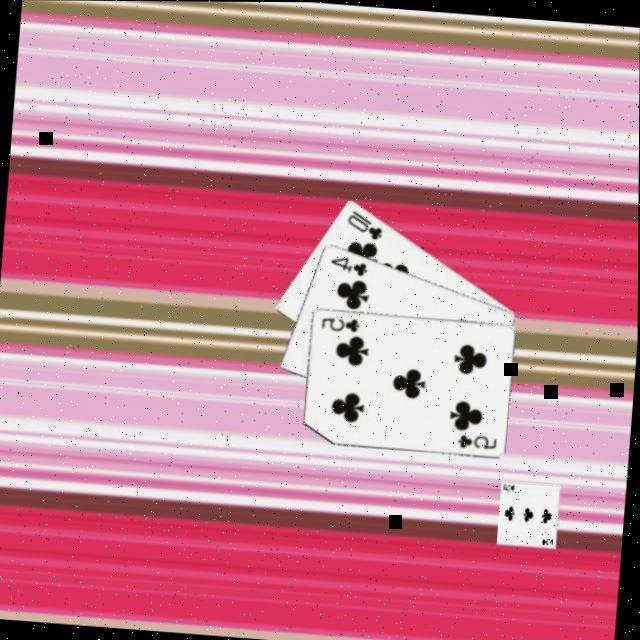10C: (344, 206, 388, 244)
4C: (328, 252, 373, 279)
5C: (456, 430, 500, 453), (320, 313, 364, 335)
